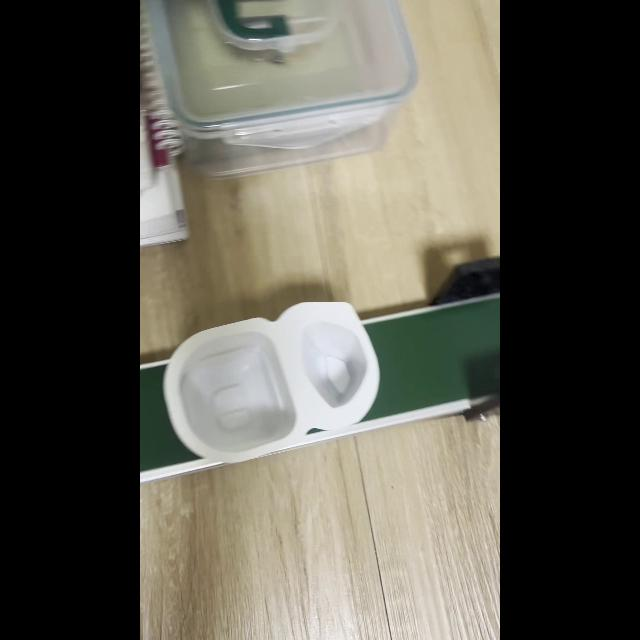clean: (169, 311, 375, 444)
